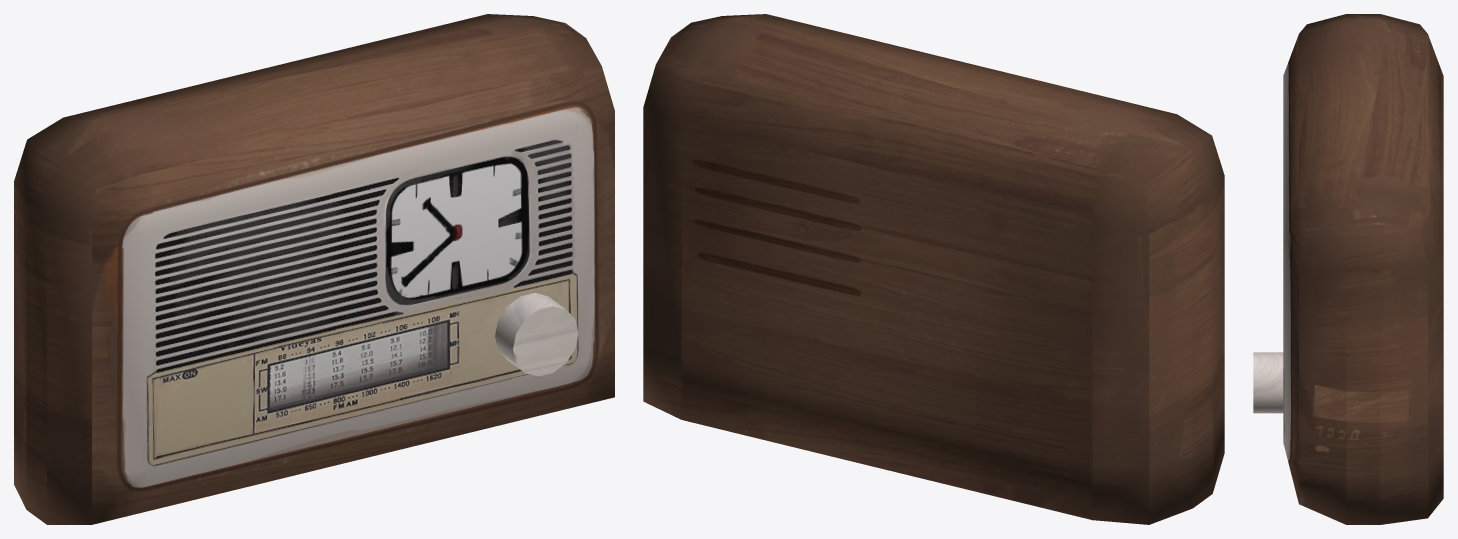
The model's file is radio.fbx.
3 views of the same model, side by side, from view 1: azimuth 30°, elevation 25°; view 2: azimuth 150°, elevation 25°; view 3: azimuth 270°, elevation 25° (orthographic). The views are drawn at different scales.
Parts seen in each view (by area): view 1: radio; view 2: radio; view 3: radio.
Boxes of the visible parts, <box> form: radio: <box>14,14,614,524</box>; radio: <box>643,14,1224,524</box>; radio: <box>1253,14,1443,524</box>.
Size of the model in its own units: 1553 by 995 by 558.
1 material, 1 textured.
